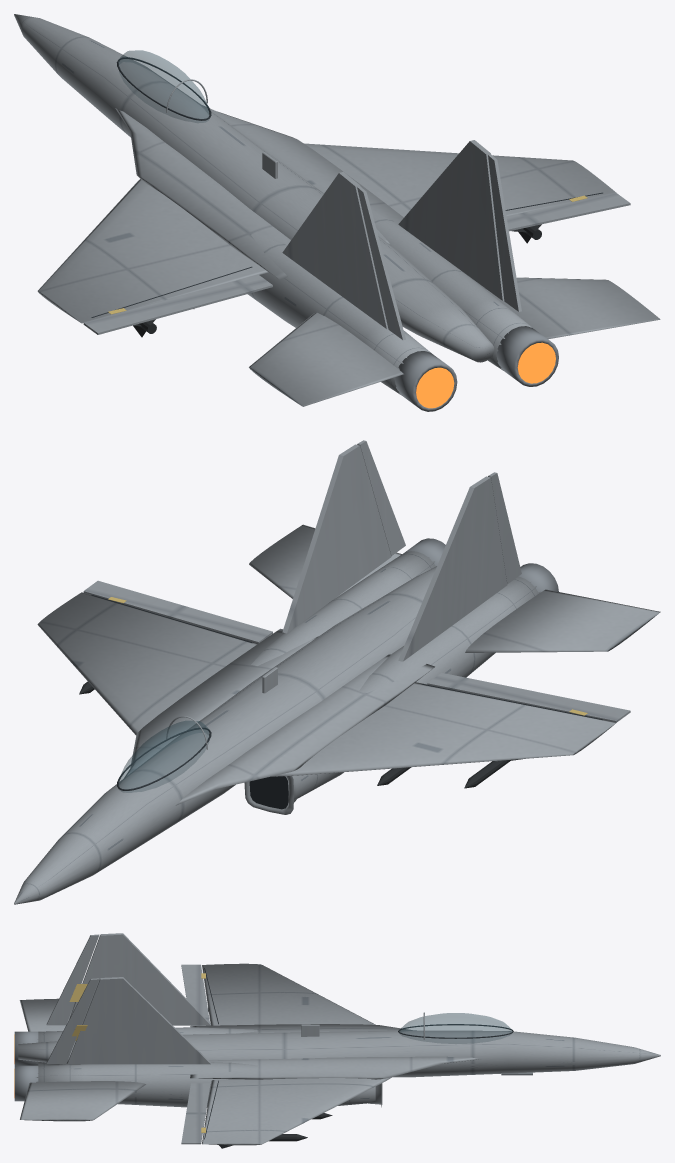
The model's file is wings_mig29.glb.
The picture shows the model from 3 angles, top to bottom: view 1: azimuth 30°, elevation 25°; view 2: azimuth 150°, elevation 25°; view 3: azimuth 270°, elevation 25°; orthographic projection. The views are drawn at different scales.
Parts seen in each view (by area): view 1: airframe_static, tailplane_L, tailplane_R, canopy, flaperon_L, rudder_2, flaperon_R, rudder_1, afterburner_R, afterburner_L; view 2: airframe_static, tailplane_L, canopy, flaperon_R, flaperon_L, tailplane_R, rudder_2, rudder_1; view 3: airframe_static, tailplane_R, canopy, rudder_1, flaperon_R, rudder_2, tailplane_L, flaperon_L.
Boxes of the visible parts, bbox=[...] form: airframe_static: bbox=[14, 14, 616, 411]; tailplane_L: bbox=[249, 312, 403, 406]; tailplane_R: bbox=[474, 277, 660, 339]; canopy: bbox=[118, 50, 209, 122]; flaperon_L: bbox=[83, 274, 272, 334]; rudder_2: bbox=[488, 154, 521, 311]; flaperon_R: bbox=[506, 193, 630, 231]; rudder_1: bbox=[357, 186, 405, 340]; afterburner_R: bbox=[517, 342, 555, 383]; afterburner_L: bbox=[416, 367, 454, 408]; airframe_static: bbox=[14, 444, 616, 904]; tailplane_L: bbox=[465, 589, 660, 652]; canopy: bbox=[118, 720, 209, 792]; flaperon_R: bbox=[83, 580, 272, 643]; flaperon_L: bbox=[427, 672, 630, 722]; tailplane_R: bbox=[249, 524, 401, 598]; rudder_2: bbox=[357, 440, 405, 555]; rudder_1: bbox=[488, 472, 521, 584]; airframe_static: bbox=[14, 933, 660, 1145]; tailplane_R: bbox=[20, 1081, 145, 1121]; canopy: bbox=[399, 1013, 512, 1043]; rudder_1: bbox=[46, 934, 99, 1025]; flaperon_R: bbox=[181, 1083, 210, 1144]; rudder_2: bbox=[46, 978, 99, 1063]; tailplane_L: bbox=[19, 998, 75, 1031]; flaperon_L: bbox=[181, 964, 209, 1026].
Size of the model in its own units: 11.36 by 3.95 by 17.34.
7 materials, 1 textured.
